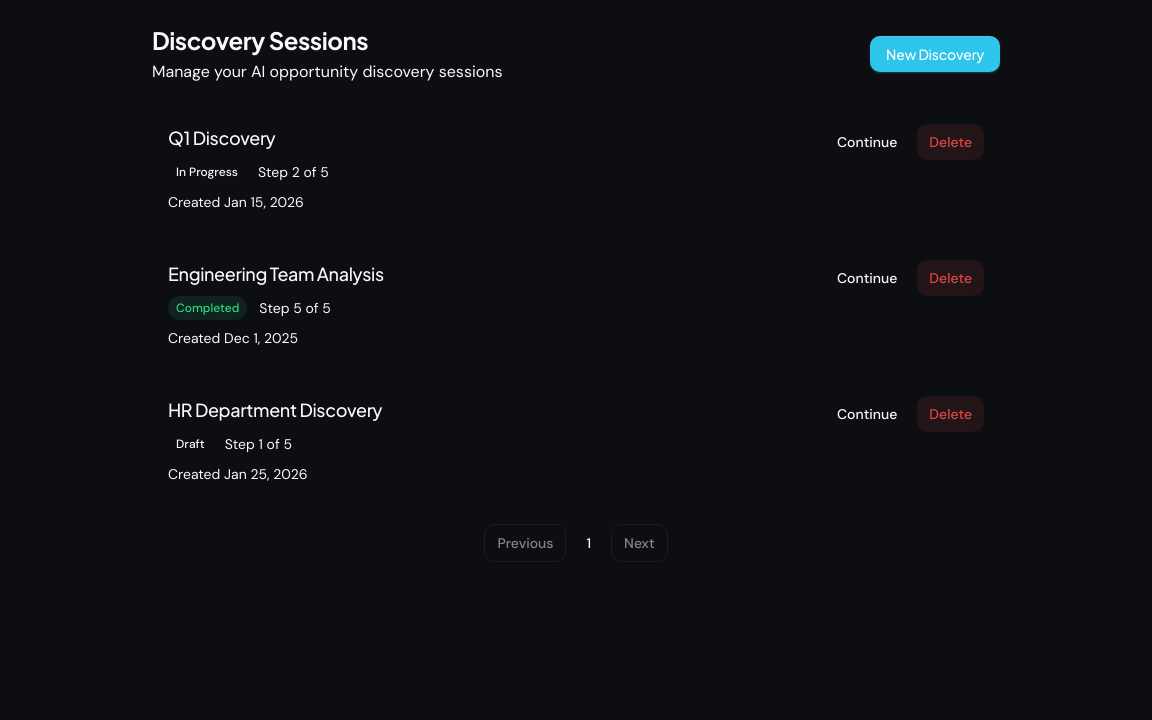
Test case: DiscoverySessionList › allows deleting a session
Click the button "Delete" in the row of "Q1 Discovery": coordinates (951, 142) [917, 124, 984, 160]
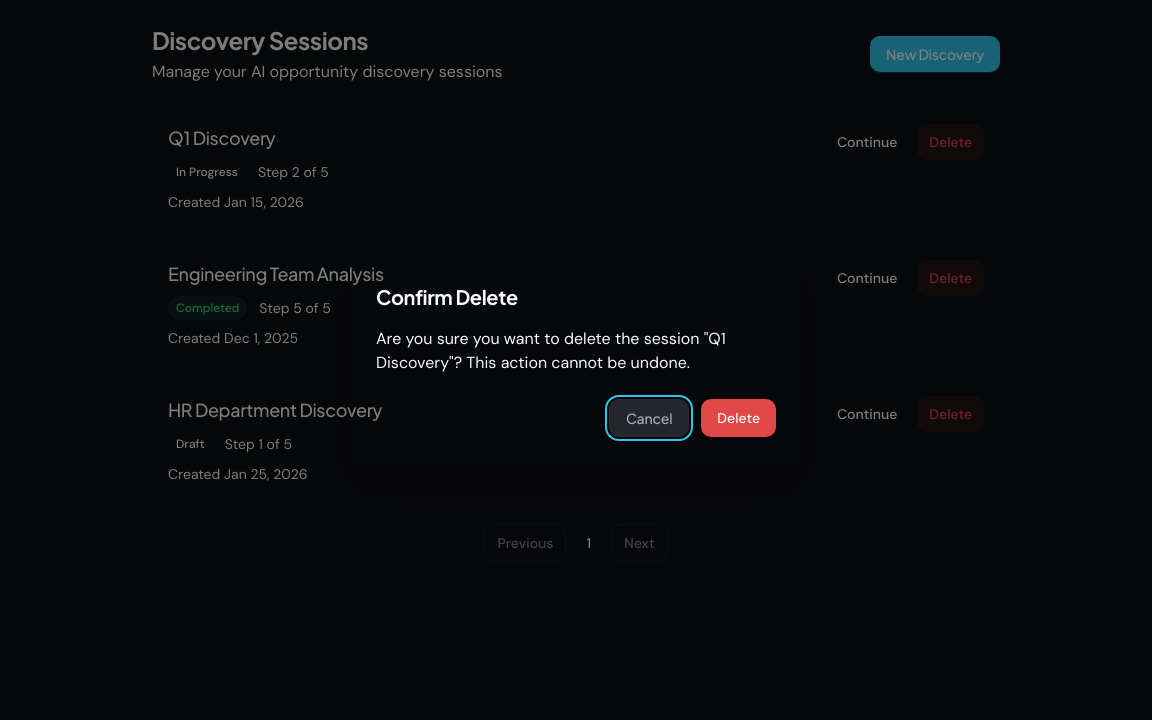
Expected: the heading "Confirm Delete" is shown, [376, 284, 518, 309]
